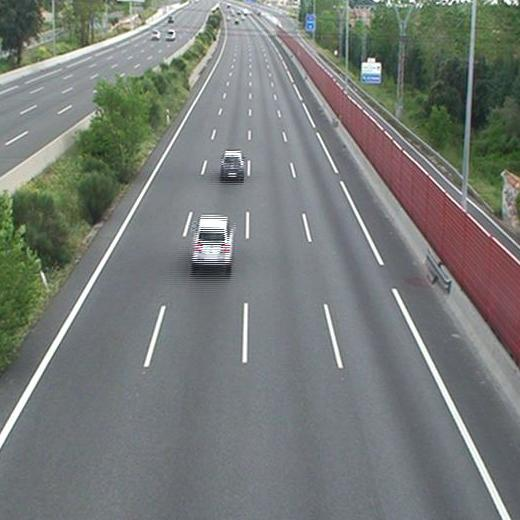car: (192, 216, 232, 265), (220, 151, 244, 178)
